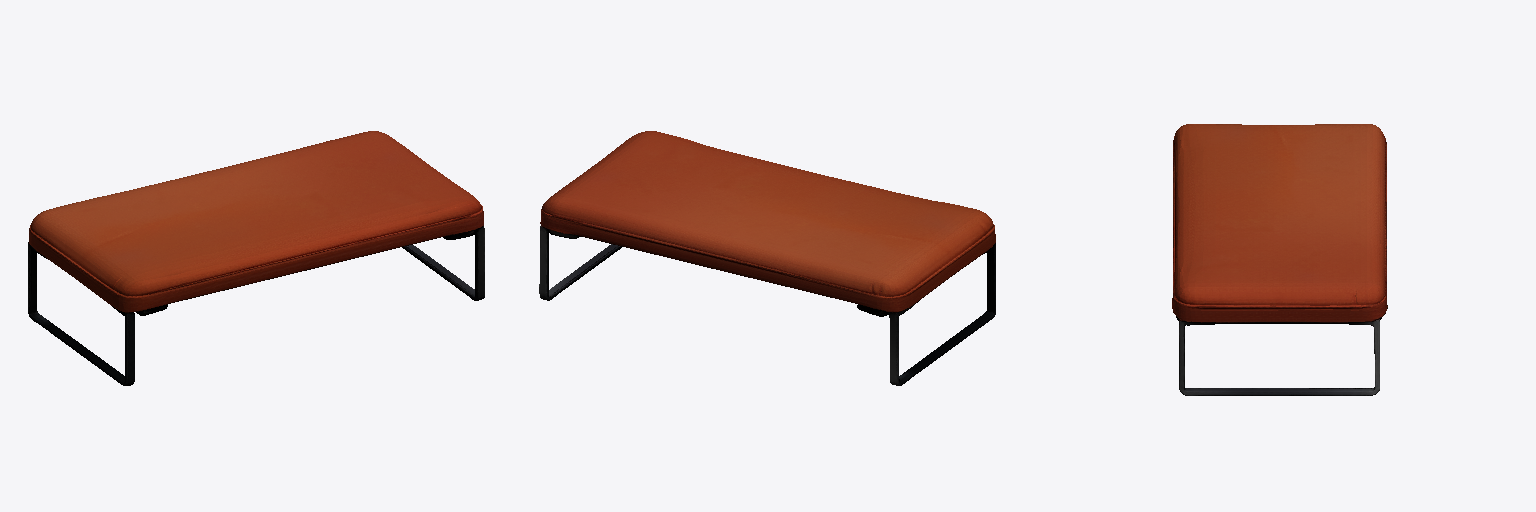
The picture shows the model from 3 angles: view 1: azimuth 30°, elevation 25°; view 2: azimuth 150°, elevation 25°; view 3: azimuth 270°, elevation 25°; orthographic projection.
Visible parts, largest first — view 1: geometry_0; view 2: geometry_0; view 3: geometry_0.
Part boxes in pixels (x1,y1,x2,y2): geometry_0: (28, 131, 484, 385); geometry_0: (539, 131, 995, 385); geometry_0: (1172, 124, 1387, 395).
Bounding box in the file's own units: 0.9981 × 0.2744 × 0.5084.
Materials: 1 (1 with a texture image).